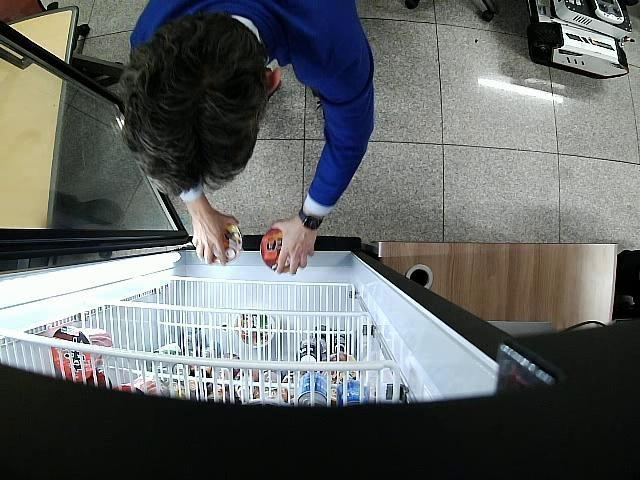05_nuguri_L: (196, 216, 242, 264), (260, 228, 300, 273)
